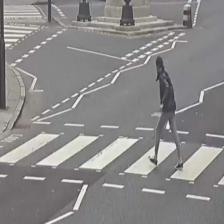person: (148, 56, 183, 168)
